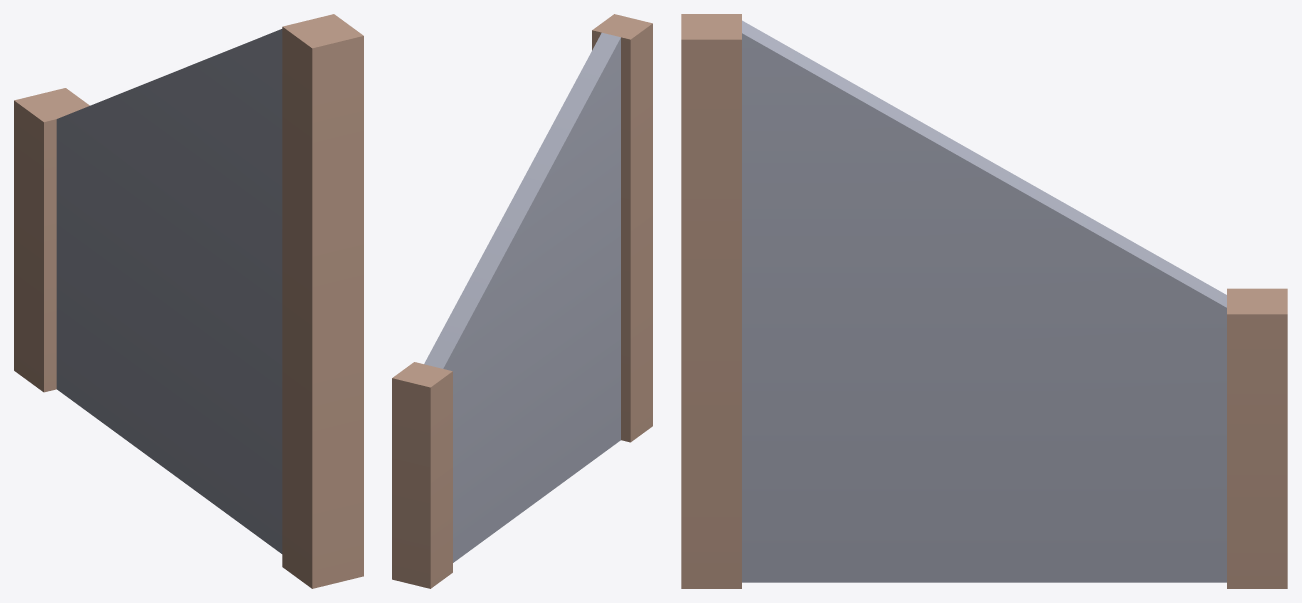
Rendered from wall-slope.glb.
The picture shows the model from 3 angles, left to right: view 1: azimuth 30°, elevation 25°; view 2: azimuth 150°, elevation 25°; view 3: azimuth 270°, elevation 25°; orthographic projection. The views are drawn at different scales.
Visible parts, largest first — view 1: wall-slope; view 2: wall-slope; view 3: wall-slope.
Part boxes in pixels (x1=…): wall-slope: x1=14, y1=14, x2=363, y2=588; wall-slope: x1=392, y1=14, x2=652, y2=588; wall-slope: x1=681, y1=14, x2=1287, y2=588.
Size of the model in its own units: 0.1 by 1 by 1.
